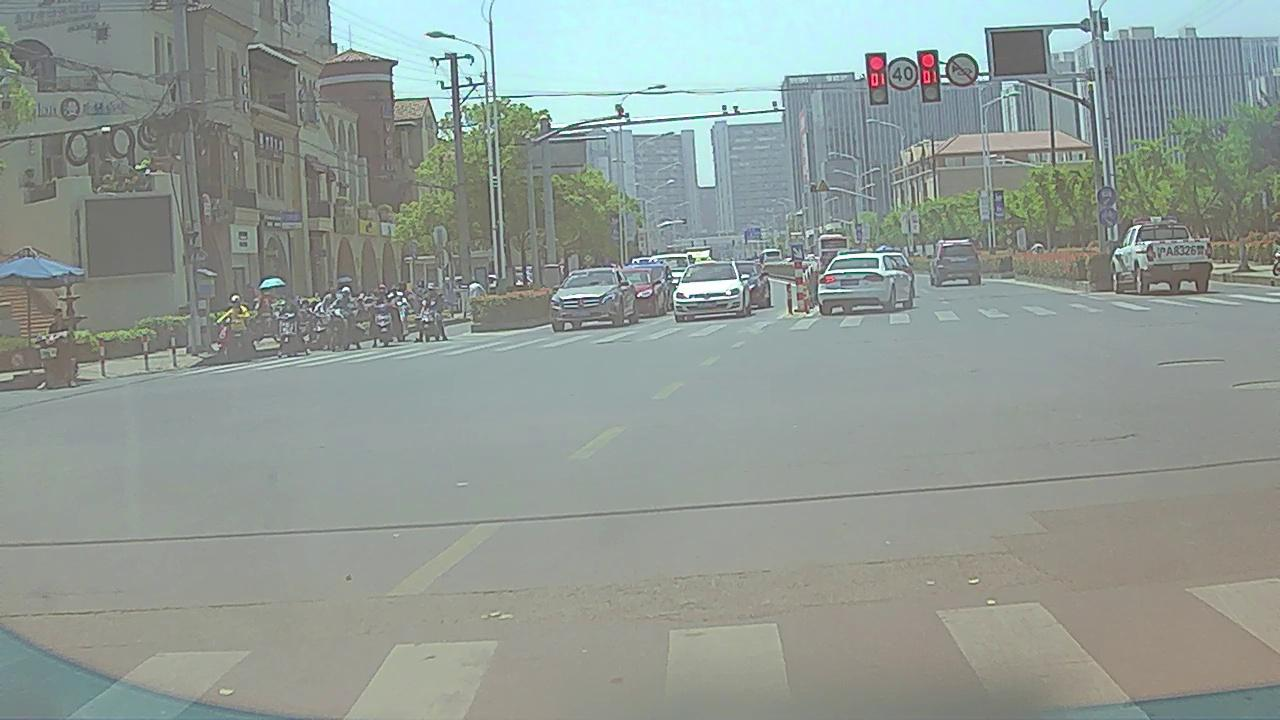traffic_light: (867, 52, 888, 106), (919, 52, 939, 102)
